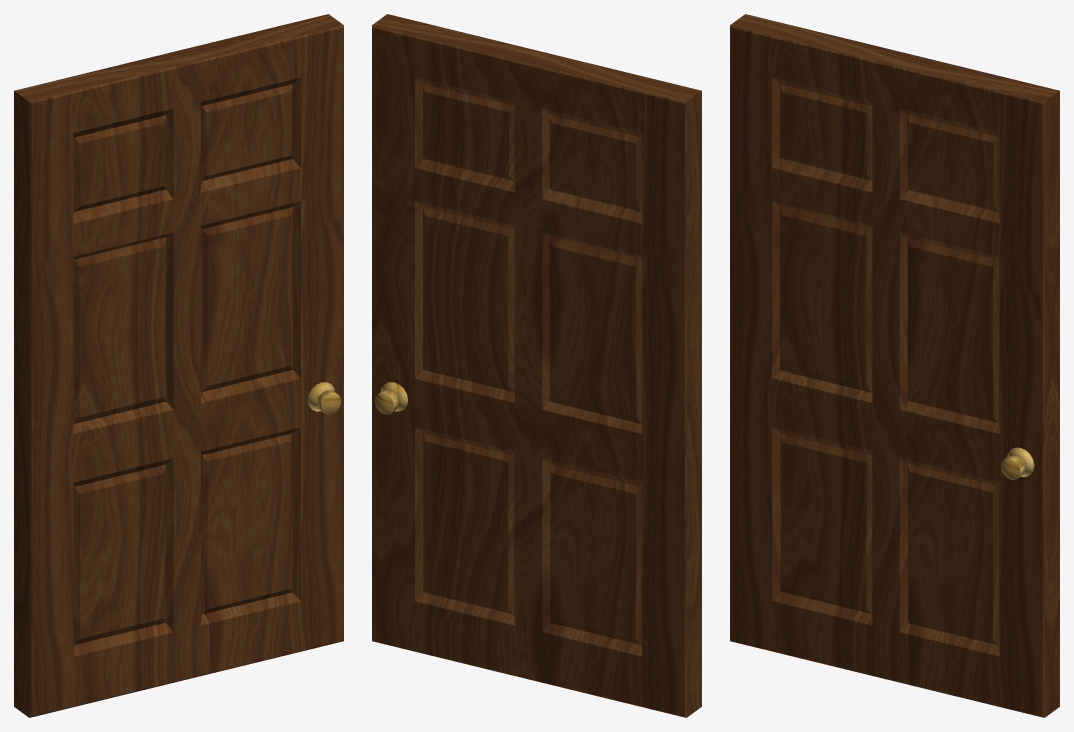
Rendered from Misc_Door.fbx.
3 views of the same model, side by side, from view 1: azimuth 30°, elevation 25°; view 2: azimuth 150°, elevation 25°; view 3: azimuth 330°, elevation 25° (orthographic).
Parts seen in each view (by area): view 1: DoorUVd:polySurface6; view 2: DoorUVd:polySurface6; view 3: DoorUVd:polySurface6.
Part boxes in pixels (bbox=[...]): DoorUVd:polySurface6: bbox=[14, 14, 343, 717]; DoorUVd:polySurface6: bbox=[372, 14, 701, 717]; DoorUVd:polySurface6: bbox=[730, 14, 1059, 717].
Bounding box in the file's own units: 80.14 × 150 × 18.05.
